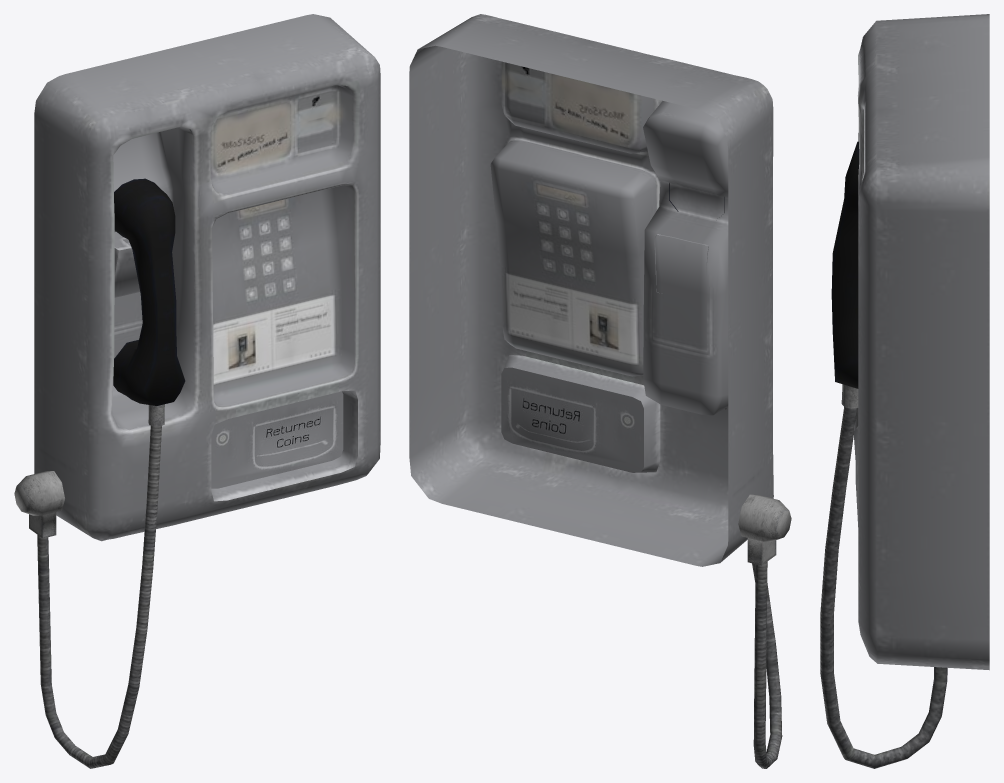
The model's file is payphone.glb.
3 renders of one model, left to right at view 1: azimuth 30°, elevation 25°; view 2: azimuth 150°, elevation 25°; view 3: azimuth 270°, elevation 25°, orthographic. The views are drawn at different scales.
Visible parts, largest first — view 1: Object002_Standardmaterial_0 (×2); view 2: Object002_Standardmaterial_0 (×2); view 3: Object002_Standardmaterial_0 (×2).
Part boxes in pixels (x1,y1,x2,y2): Object002_Standardmaterial_0 (×2): (14,14,380,768); Object002_Standardmaterial_0 (×2): (409,14,791,768); Object002_Standardmaterial_0 (×2): (820,14,989,768).
Size of the model in its own units: 211 by 390 by 78.53.
Materials: 2 (2 with a texture image).
